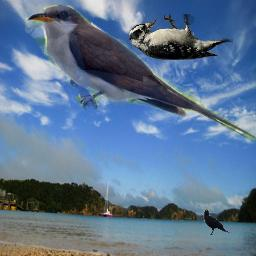Crow: (203, 209, 230, 235)
Cuckoo: (25, 5, 255, 144)
Woodpecker: (129, 14, 233, 60)
